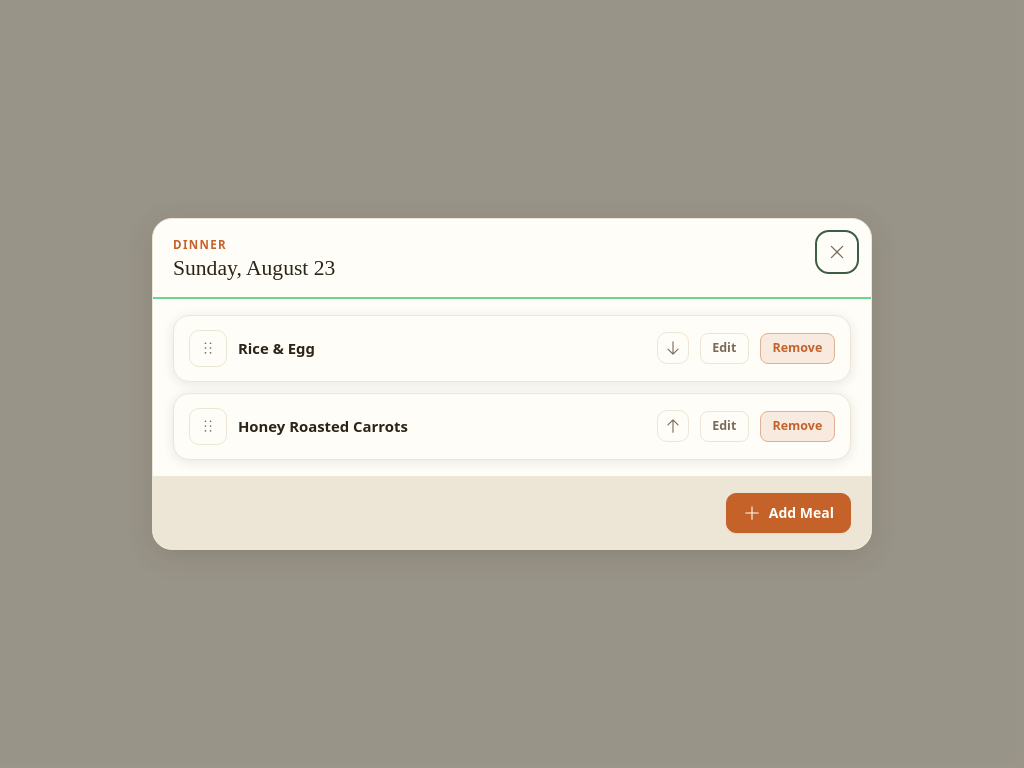
SlotManagerModal › announces reorder failures
Click the button named "Move Rice & Egg down" at (672, 348), box [656,332,688,364]
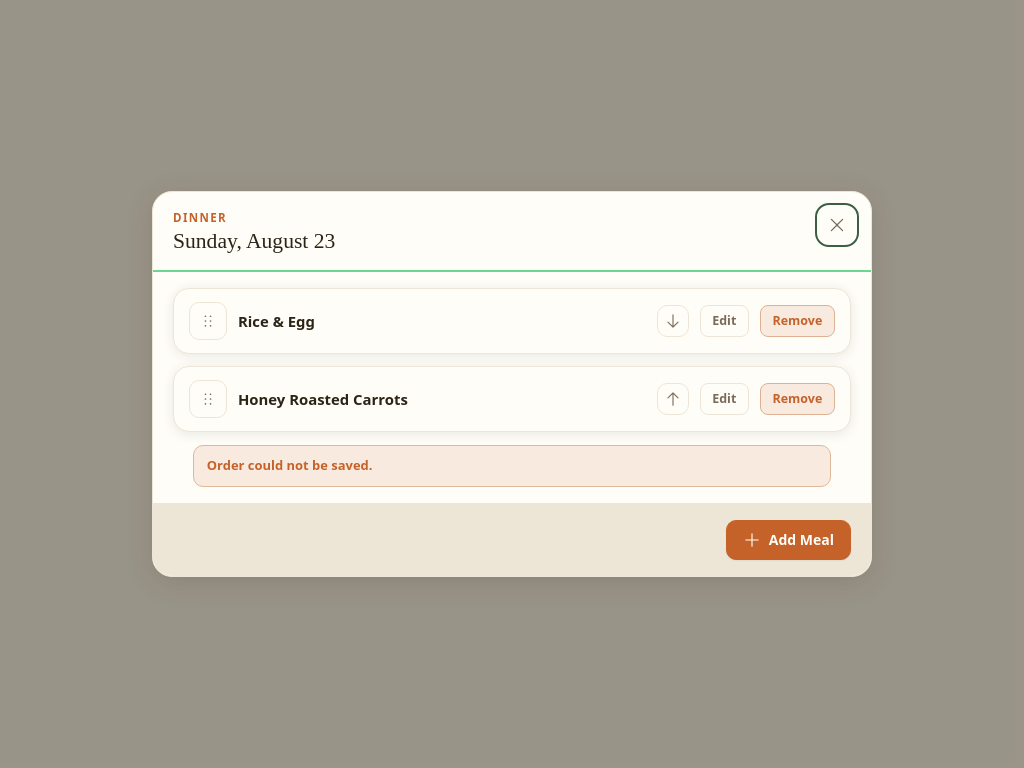
Now the message reads "Order could not be saved.", box [207,456,372,474]
